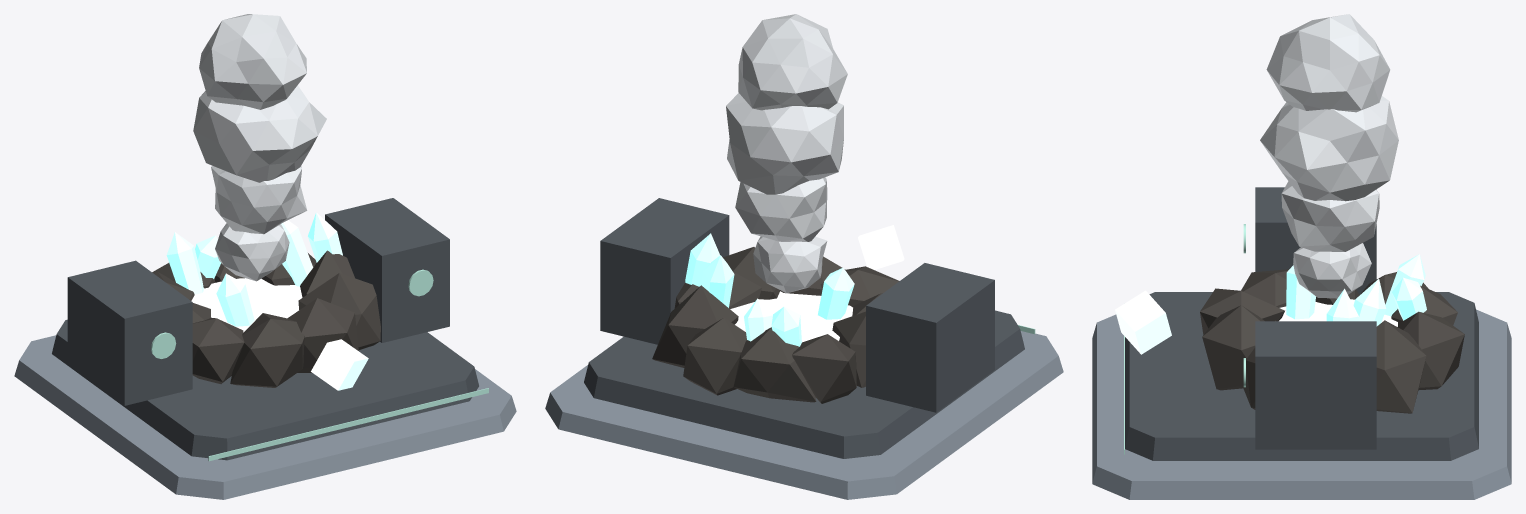
The model's file is GeyserVentDropper_Roblox.fbx.
3 renders of one model, left to right at view 1: azimuth 30°, elevation 25°; view 2: azimuth 150°, elevation 25°; view 3: azimuth 270°, elevation 25°, orthographic. The views are drawn at different scales.
Parts seen in each view (by area): view 1: DarkPlate, Steam, SteelPlate, VentRock, Crystal, AccentNeon, CoreGlow, Ore; view 2: DarkPlate, Steam, SteelPlate, VentRock, Crystal, CoreGlow, Ore; view 3: DarkPlate, Steam, SteelPlate, VentRock, Crystal, Ore, CoreGlow.
Boxes of the visible parts, x1=… form: DarkPlate: x1=52, y1=198, x2=478, y2=460; Steam: x1=193, y1=14, x2=326, y2=281; SteelPlate: x1=14, y1=335, x2=516, y2=499; VentRock: x1=152, y1=250, x2=380, y2=387; Crystal: x1=166, y1=212, x2=342, y2=326; AccentNeon: x1=151, y1=269, x2=488, y2=461; CoreGlow: x1=191, y1=278, x2=302, y2=332; Ore: x1=311, y1=339, x2=368, y2=390; DarkPlate: x1=584, y1=198, x2=1024, y2=458; Steam: x1=726, y1=14, x2=847, y2=293; SteelPlate: x1=545, y1=331, x2=1063, y2=499; VentRock: x1=652, y1=247, x2=899, y2=403; Crystal: x1=685, y1=233, x2=854, y2=346; CoreGlow: x1=730, y1=291, x2=852, y2=342; Ore: x1=858, y1=225, x2=904, y2=269; DarkPlate: x1=1125, y1=187, x2=1478, y2=460; Steam: x1=1260, y1=14, x2=1398, y2=298; SteelPlate: x1=1092, y1=309, x2=1511, y2=499; VentRock: x1=1200, y1=269, x2=1464, y2=413; Crystal: x1=1286, y1=254, x2=1426, y2=326; Ore: x1=1115, y1=290, x2=1171, y2=354; CoreGlow: x1=1279, y1=299, x2=1397, y2=326.
Bounding box in the file's own units: 900 × 1035 × 900.
